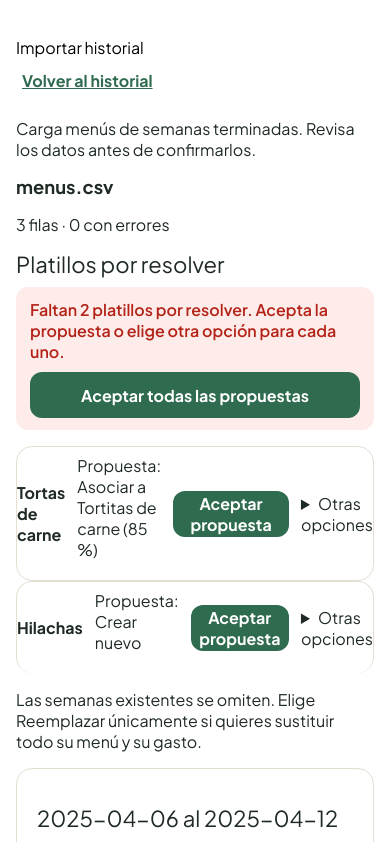
Test: HU-17 Resolver platillos nuevos al importar › informa el error del servidor sin perder la lista
The width and height of the screenshot is (390, 842).
Click the button "Aceptar todas las propuestas" at (195, 396), box [30,372,360,418]
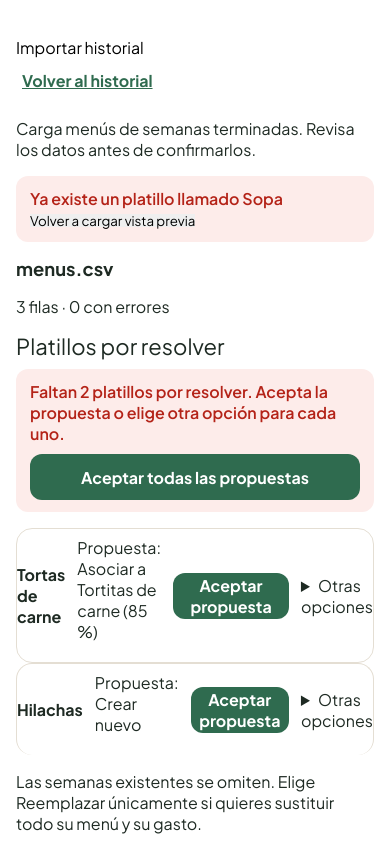
Expected: the list item with aria-label "Platillo Hilachas" is shown, [16,664,374,756]
Expected: the message shows "Ya existe un platillo llamado Sopa", [30,188,283,209]
